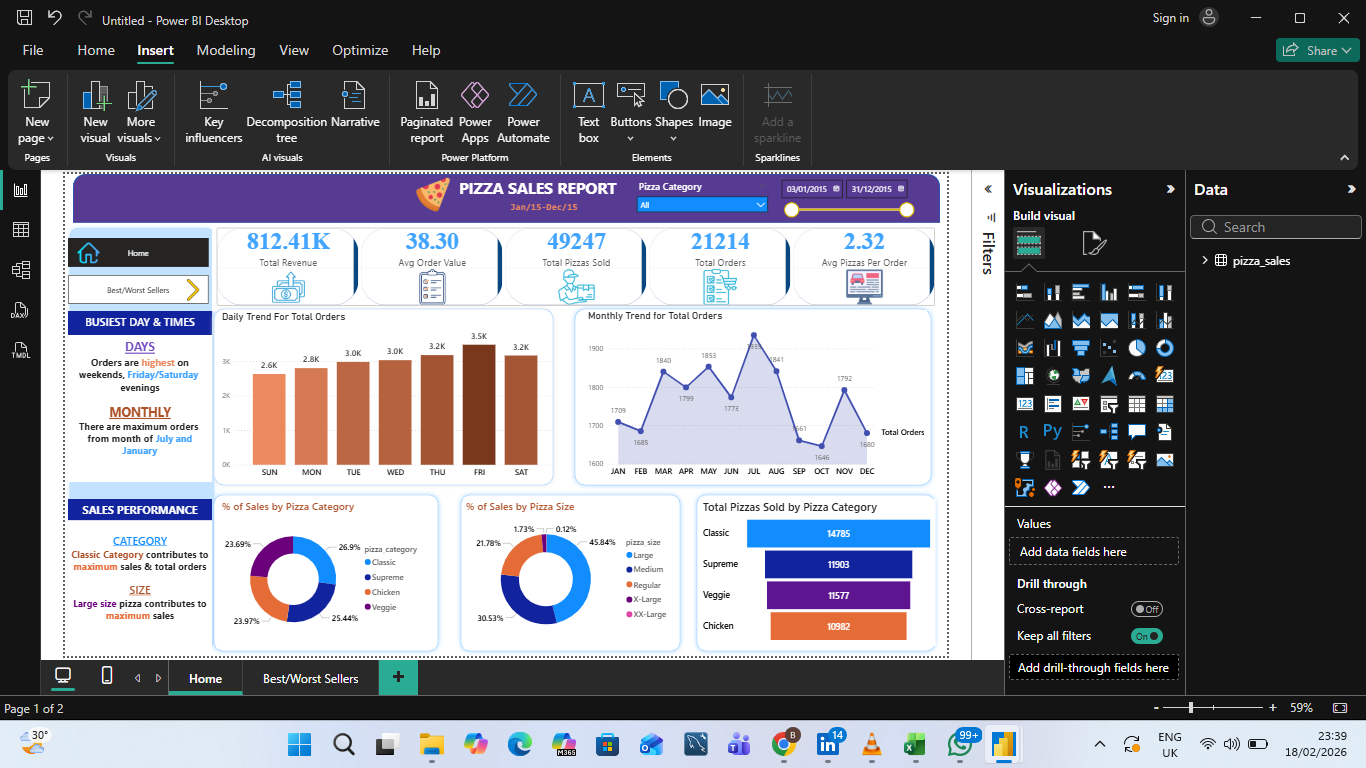

Layout of this report page (visuals, bound fields, positions):
{"tool":"powerbi","page":{"name":"Home","canvas":[1500,820],"ordinal":0},"visuals":[{"type":"textbox","box":[729.8,35.7,154.8,34],"z":0},{"type":"shape","box":[0,83.4,262,731.5],"z":1000},{"type":"cardVisual","fields":{"Data":["pizza_sales.Total Revenue","pizza_sales.Avg Order Value","pizza_sales.Total Pizzas Sold","pizza_sales.Total Orders","pizza_sales.Avg Pizzas Per Order"]},"box":[250.1,83.4,1238.5,149.7],"z":2000},{"type":"shape","box":[13.6,0,1475,83.4],"z":3000},{"type":"textbox","box":[665,0,285,50],"z":4000},{"type":"image","box":[563.1,5.1,125.9,59.5],"z":5000},{"type":"textbox","box":[5.1,233.1,245,40.8],"z":6000},{"type":"shape","box":[245,221.2,593.7,316.4],"z":7000},{"type":"columnChart","title":"Daily Trend For Total Orders","fields":{"Category":["pizza_sales.Order Day"],"Y":["pizza_sales.Total Orders"]},"box":[262,233.1,576.7,292.6],"z":8000},{"type":"shape","box":[859.1,221.2,622.7,316.4],"z":9000},{"type":"shape","box":[245,537.6,398.1,282.4],"z":10000},{"type":"shape","box":[1066.7,537.6,421.9,282.4],"z":11000},{"type":"shape","box":[665.2,537.6,389.6,282.4],"z":12000},{"type":"donutChart","title":"% of Sales by Pizza Category","fields":{"Category":["pizza_sales.pizza_category"],"Y":["pizza_sales.Total Revenue"]},"box":[262,552.9,364.1,250.1],"z":13000},{"type":"donutChart","title":"% of Sales by Pizza Size","fields":{"Category":["pizza_sales.pizza_size"],"Y":["pizza_sales.Total Revenue"]},"box":[677.1,552.9,364.1,250.1],"z":14000},{"type":"funnel","title":"Total Pizzas Sold by Pizza Category","fields":{"Category":["pizza_sales.pizza_category"],"Y":["pizza_sales.Total Pizzas Sold"]},"box":[1080.3,552.9,401.5,250.1],"z":15000},{"type":"areaChart","title":"Monthly Trend for Total Orders","fields":{"Category":["pizza_sales.Order Month"],"Y":["pizza_sales.Total Orders"]},"box":[884.6,231.4,581.8,292.6],"z":16000},{"type":"textbox","box":[5.1,588.6,245,231.4],"z":17000},{"type":"textbox","box":[5.1,552.9,245,35.7],"z":18000},{"type":"textbox","box":[5.1,273.9,245,250.1],"z":19000},{"type":"textbox","box":[729.8,40.8,170.1,28.9],"z":20000},{"type":"slicer","fields":{"Values":["pizza_sales.pizza_category"]},"box":[962.9,5.1,243.3,64.6],"z":21000},{"type":"slicer","fields":{"Values":["pizza_sales.order_date"]},"box":[1206.2,0,246.7,83.4],"z":22000}]}

Visuals, with their boxes on the page's 1500x820 design canvas (x1, y1, x2, y2). These are canvas units, not pixel positions in the 1366x768 screenshot, which may show the page scaled, cropped or inside an application window:
textbox: <box>730,36,885,70</box>
shape: <box>0,83,262,815</box>
cardVisual - pizza_sales.Total Revenue x pizza_sales.Avg Order Value: <box>250,83,1489,233</box>
shape: <box>14,0,1489,83</box>
textbox: <box>665,0,950,50</box>
image: <box>563,5,689,65</box>
textbox: <box>5,233,250,274</box>
shape: <box>245,221,839,538</box>
"Daily Trend For Total Orders" columnChart: <box>262,233,839,526</box>
shape: <box>859,221,1482,538</box>
shape: <box>245,538,643,820</box>
shape: <box>1067,538,1489,820</box>
shape: <box>665,538,1055,820</box>
"% of Sales by Pizza Category" donutChart: <box>262,553,626,803</box>
"% of Sales by Pizza Size" donutChart: <box>677,553,1041,803</box>
"Total Pizzas Sold by Pizza Category" funnel: <box>1080,553,1482,803</box>
"Monthly Trend for Total Orders" areaChart: <box>885,231,1466,524</box>
textbox: <box>5,589,250,820</box>
textbox: <box>5,553,250,589</box>
textbox: <box>5,274,250,524</box>
textbox: <box>730,41,900,70</box>
slicer - pizza_sales.pizza_category: <box>963,5,1206,70</box>
slicer - pizza_sales.order_date: <box>1206,0,1453,83</box>
